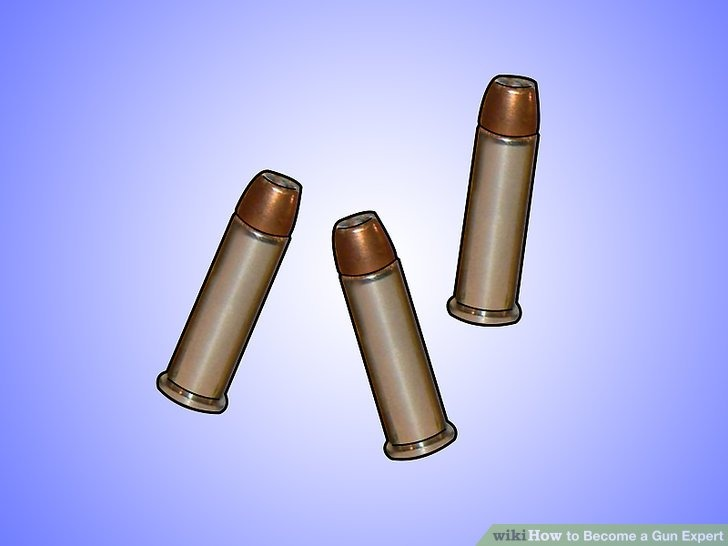bullet: (158, 158, 302, 432), (327, 204, 470, 463), (443, 63, 543, 332)
